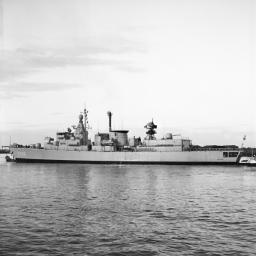Fragata: (7, 99, 246, 167)
